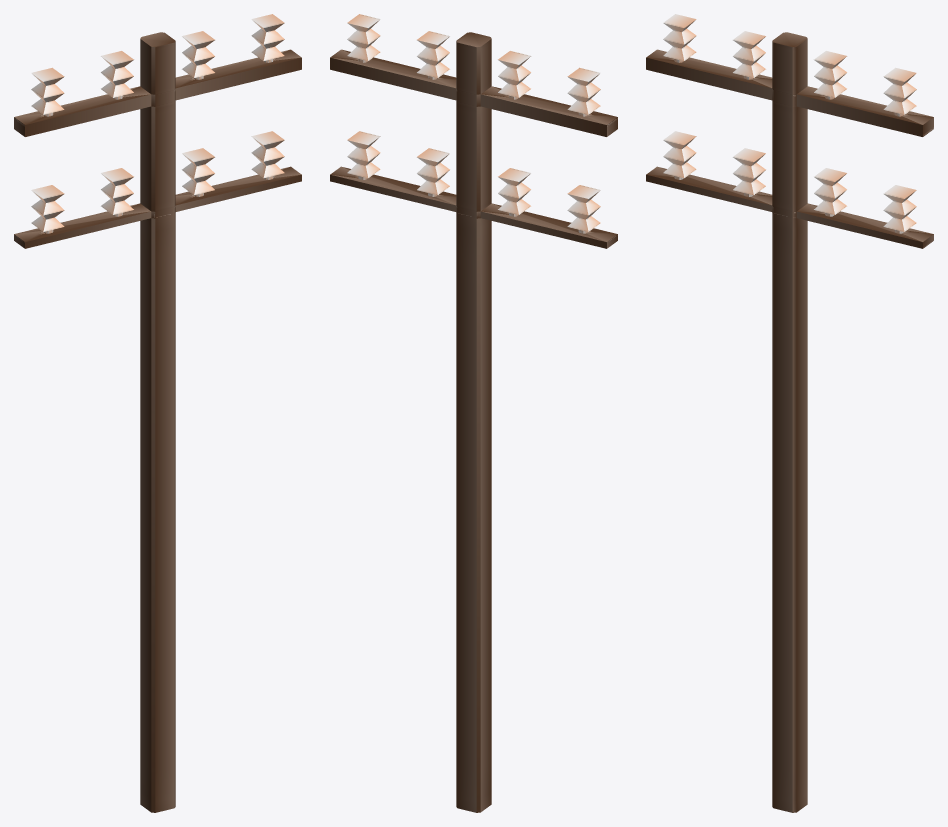
The model's file is electroline1.fbx.
3 renders of one model, left to right at view 1: azimuth 30°, elevation 25°; view 2: azimuth 150°, elevation 25°; view 3: azimuth 330°, elevation 25°, orthographic.
Parts seen in each view (by area): view 1: ЛЭП_v2; view 2: ЛЭП_v2; view 3: ЛЭП_v2.
Part boxes in pixels (x1=…): ЛЭП_v2: x1=14, y1=14, x2=301, y2=812; ЛЭП_v2: x1=330, y1=14, x2=617, y2=812; ЛЭП_v2: x1=646, y1=14, x2=933, y2=812.
Size of the model in its own units: 1161 by 439 by 38.57.
